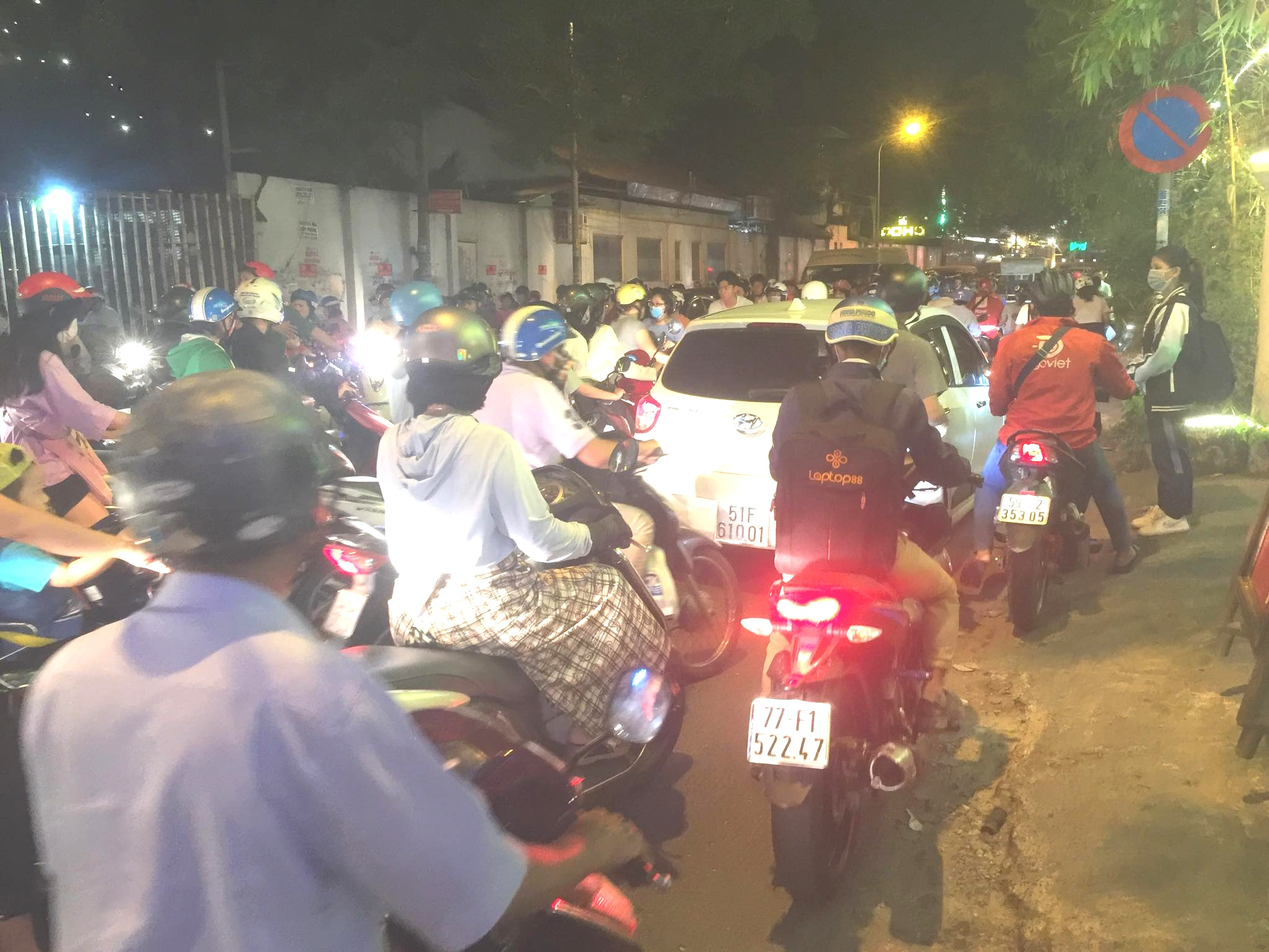Bien-so: (736, 658, 813, 727), (300, 561, 352, 617), (697, 468, 754, 517), (983, 454, 1035, 493)
